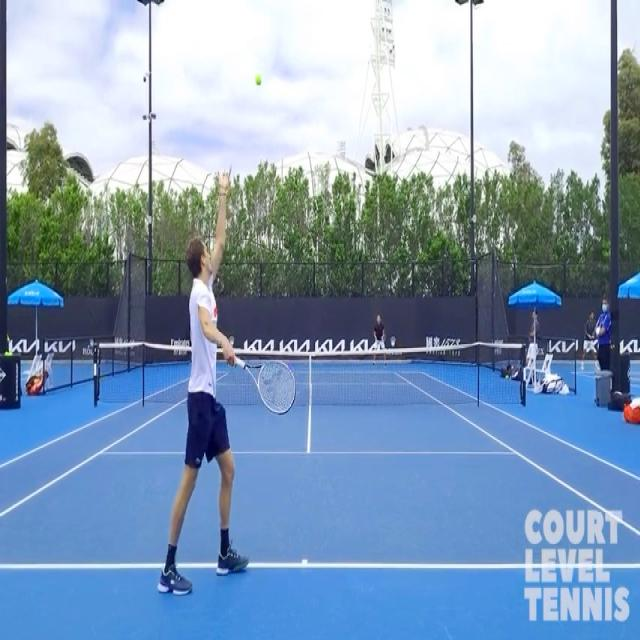serve_toss: (162, 161, 288, 588)
